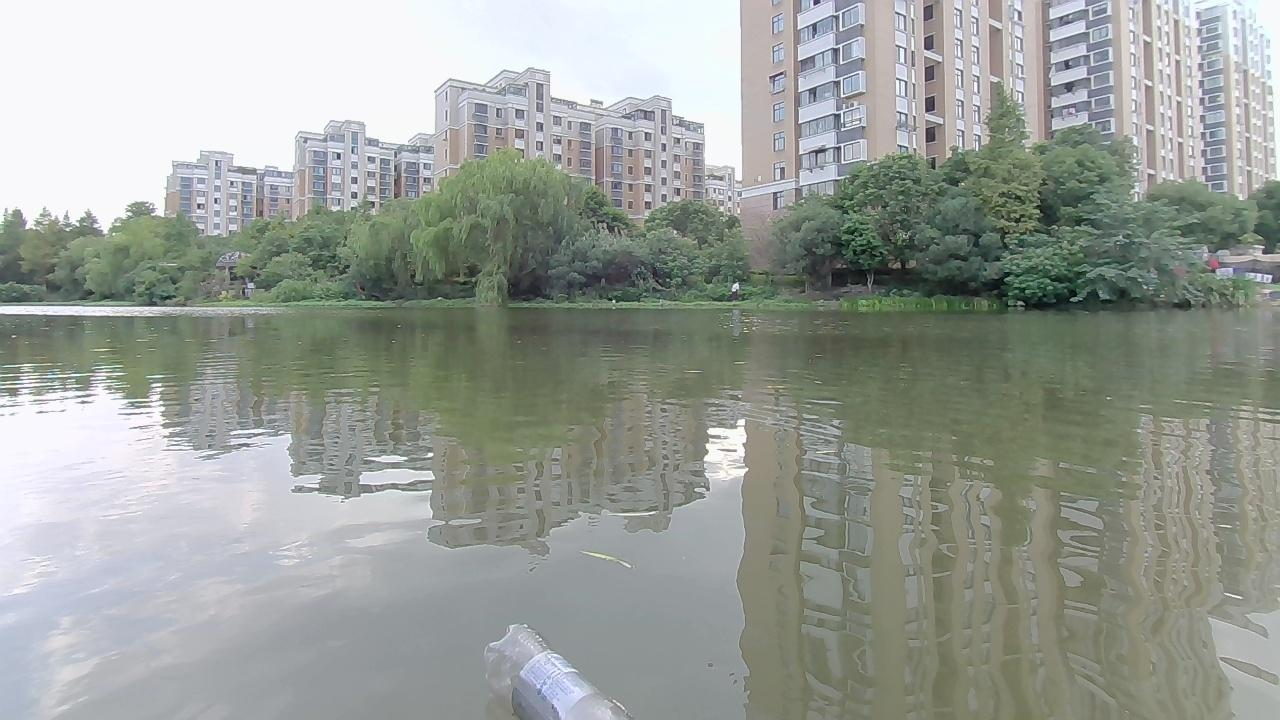bottle: (481, 622, 642, 719)
